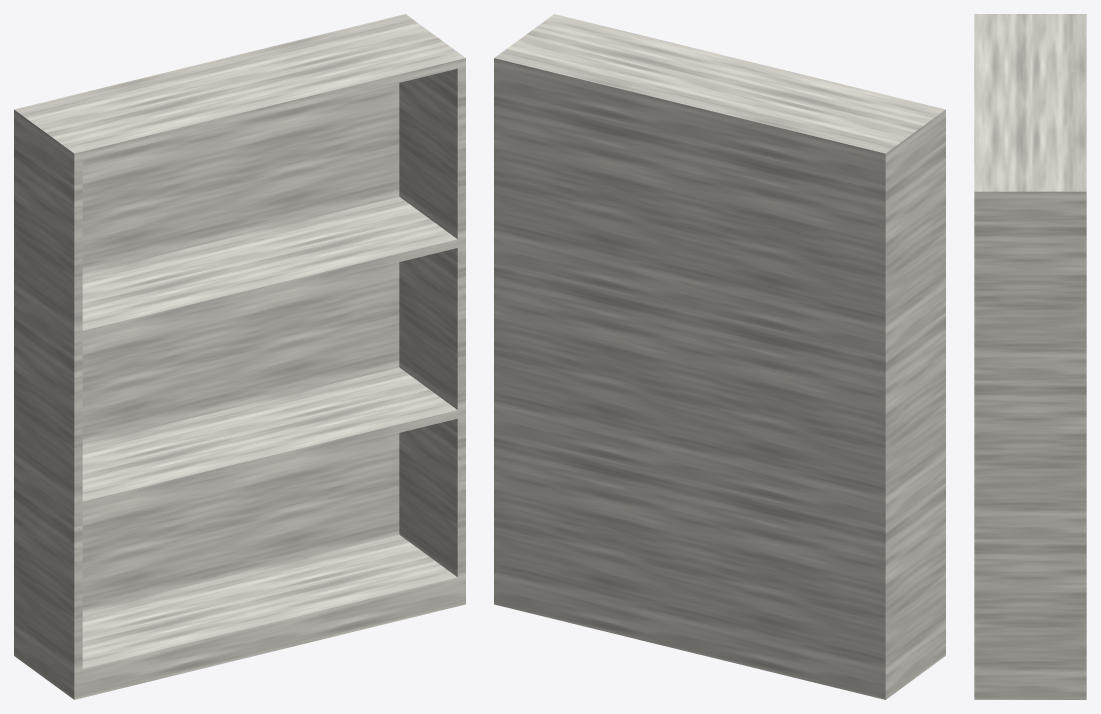
The model's file is shelf_white.glb.
3 views of the same model, side by side, from view 1: azimuth 30°, elevation 25°; view 2: azimuth 150°, elevation 25°; view 3: azimuth 270°, elevation 25° (orthographic). The views are drawn at different scales.
Parts seen in each view (by area): view 1: Shelf; view 2: Shelf; view 3: Shelf.
Part boxes in pixels (left/top/right/bottom): Shelf: left=14, top=14, right=465, bottom=699; Shelf: left=494, top=14, right=945, bottom=699; Shelf: left=974, top=14, right=1086, bottom=699.
Size of the model in its own units: 1.2 by 1.6 by 0.32.
Materials: 1 (1 with a texture image).
